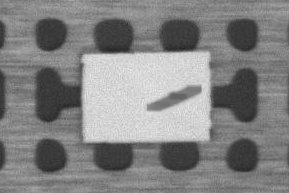DIE_INK: (144, 81, 201, 113)
